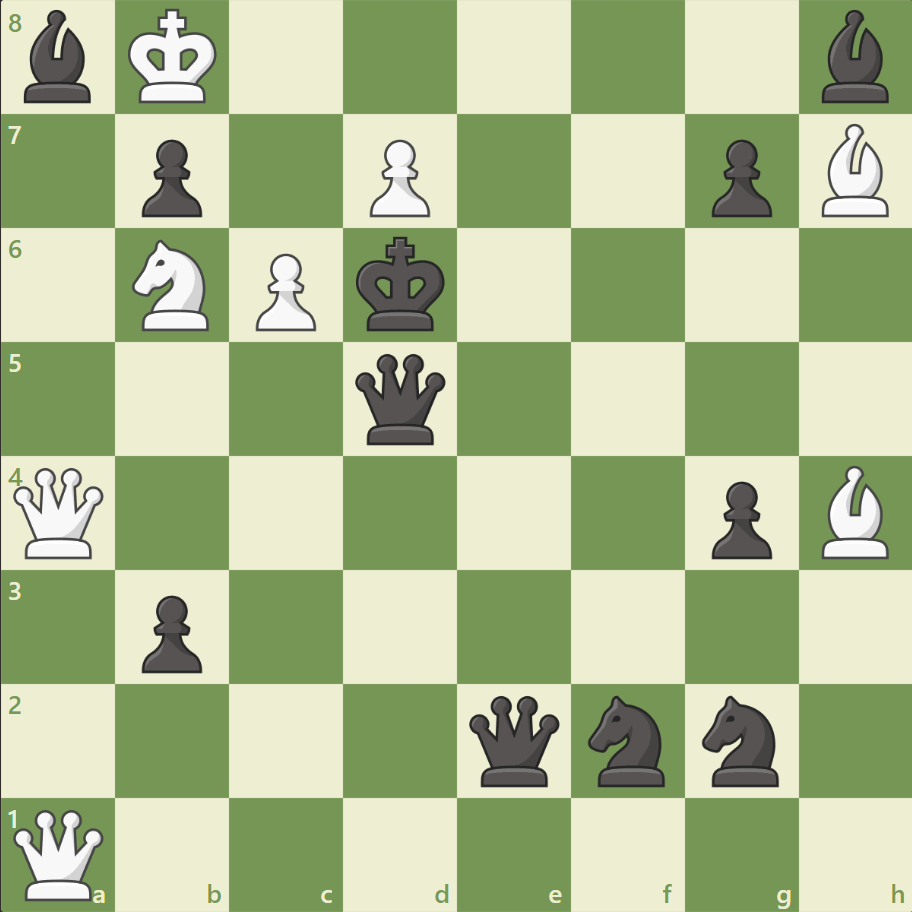B: (812, 460, 896, 563), (812, 120, 896, 222)
K: (124, 4, 224, 112)
N: (124, 234, 222, 337)
P: (247, 246, 322, 337), (361, 132, 435, 223)
Q: (10, 463, 109, 562), (10, 804, 109, 903)
b: (17, 6, 101, 109), (812, 6, 896, 109)
k: (351, 231, 451, 339)
n: (579, 688, 676, 791), (692, 688, 789, 791)
p: (133, 132, 208, 223), (701, 132, 776, 223), (701, 473, 776, 564), (133, 586, 208, 677)
q: (351, 349, 450, 449), (464, 690, 563, 789)
